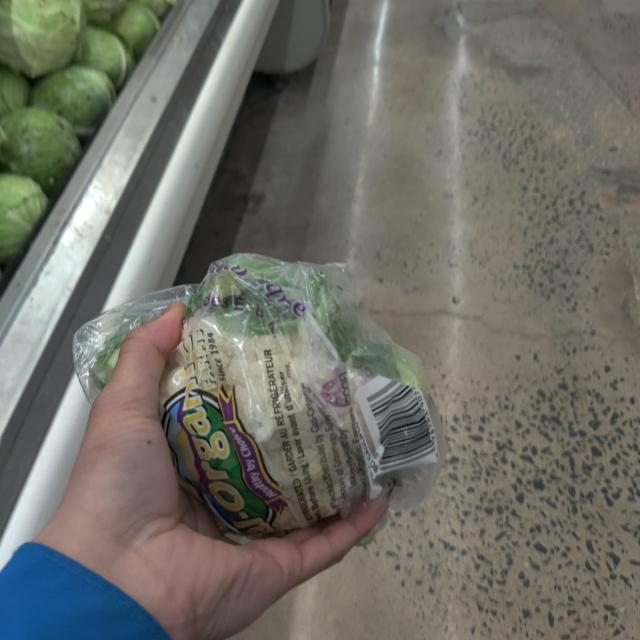Cabbage: (0, 104, 81, 190), (0, 0, 86, 74), (36, 70, 116, 132), (0, 174, 51, 266)
Cauliflower: (165, 252, 428, 538)
